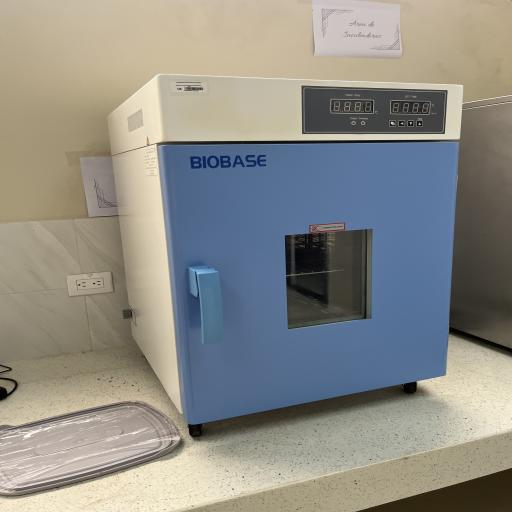Horno_Secado_Biobase: (88, 64, 473, 446)
